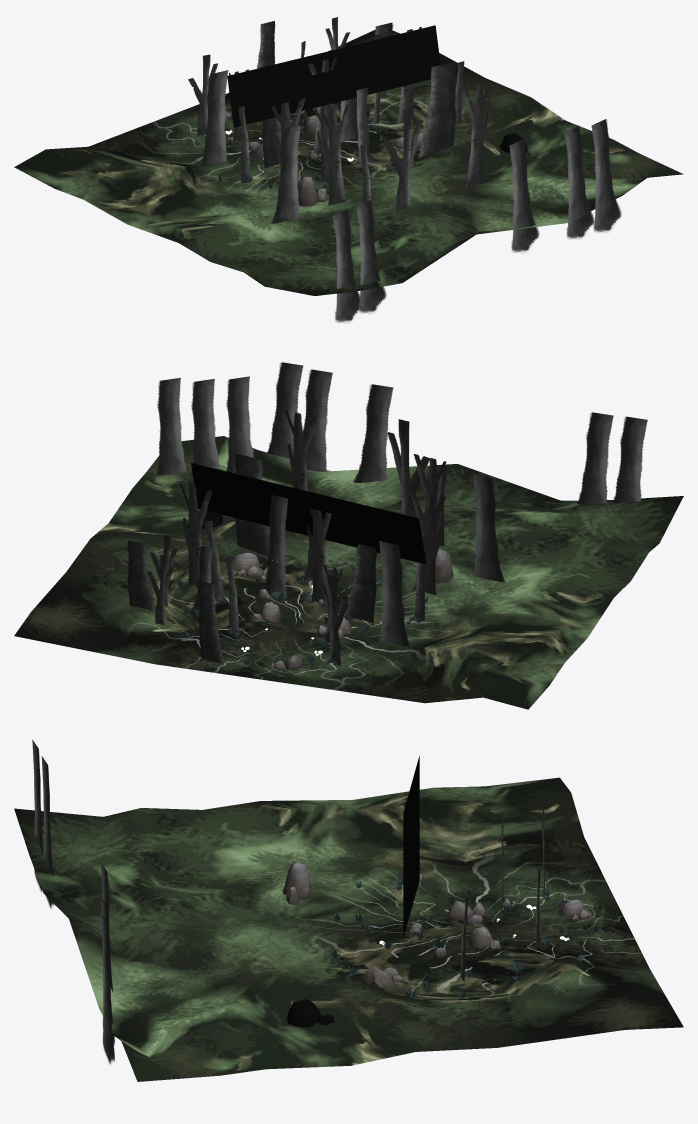
Rendered from chapter3.glb.
3 views of the same model, one above another, from view 1: azimuth 30°, elevation 25°; view 2: azimuth 150°, elevation 25°; view 3: azimuth 270°, elevation 25° (orthographic). The views are drawn at different scales.
Parts seen in each view (by area): view 1: bg, Plane, tree19, tree24.010, tree24.008, tree24.001, tree24.005, tree24.006, tree26, tree27, tree30, tree22 (+12 smaller); view 2: bg, Plane, tree24.001, tree26, tree24.011, tree27, tree24.005, tree24.008, tree24.010, tree24.006, tree24.013, tree24.012 (+20 smaller); view 3: bg, Plane, nerv.001, tree24.010, stone-set-5, stone-set-6, tree24.005, tree24.006, stone-set-4, stone-set-3.
Part boxes in pixels (x1=…): bg: x1=14, y1=29, x2=683, y2=295; Plane: x1=227, y1=25, x2=440, y2=127; tree19: x1=418, y1=61, x2=457, y2=158; tree24.010: x1=591, y1=119, x2=621, y2=232; tree24.008: x1=564, y1=125, x2=594, y2=239; tree24.001: x1=509, y1=139, x2=539, y2=252; tree24.005: x1=356, y1=200, x2=386, y2=313; tree24.006: x1=333, y1=209, x2=359, y2=322; tree26: x1=271, y1=125, x2=300, y2=223; tree27: x1=199, y1=70, x2=228, y2=166; tree30: x1=462, y1=80, x2=491, y2=189; tree22: x1=384, y1=108, x2=423, y2=211; bg: x1=14, y1=436, x2=683, y2=709; Plane: x1=191, y1=463, x2=426, y2=564; tree24.001: x1=353, y1=384, x2=393, y2=482; tree26: x1=473, y1=474, x2=505, y2=582; tree24.011: x1=156, y1=377, x2=186, y2=475; tree27: x1=379, y1=540, x2=410, y2=646; tree24.005: x1=576, y1=412, x2=613, y2=504; tree24.008: x1=302, y1=369, x2=332, y2=471; tree24.010: x1=266, y1=362, x2=303, y2=458; tree24.006: x1=613, y1=416, x2=647, y2=503; tree24.013: x1=190, y1=378, x2=219, y2=475; tree24.012: x1=226, y1=376, x2=253, y2=473; bg: x1=14, y1=777, x2=683, y2=1081; Plane: x1=403, y1=755, x2=419, y2=937; nerv.001: x1=318, y1=861, x2=647, y2=996; tree24.010: x1=101, y1=912, x2=114, y2=1064; stone-set-5: x1=282, y1=860, x2=311, y2=905; stone-set-6: x1=287, y1=999, x2=334, y2=1027; tree24.005: x1=41, y1=756, x2=55, y2=908; tree24.006: x1=32, y1=739, x2=42, y2=891; stone-set-4: x1=363, y1=966, x2=402, y2=987; stone-set-3: x1=446, y1=901, x2=485, y2=923.
Bounding box in the file's own units: 29.48 × 7.54 × 27.82.
Materials: 39 (36 with a texture image).
